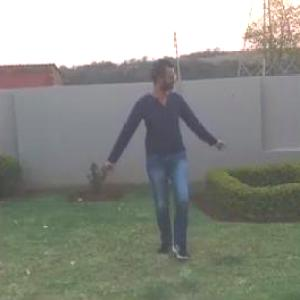land: (80, 46, 248, 278)
